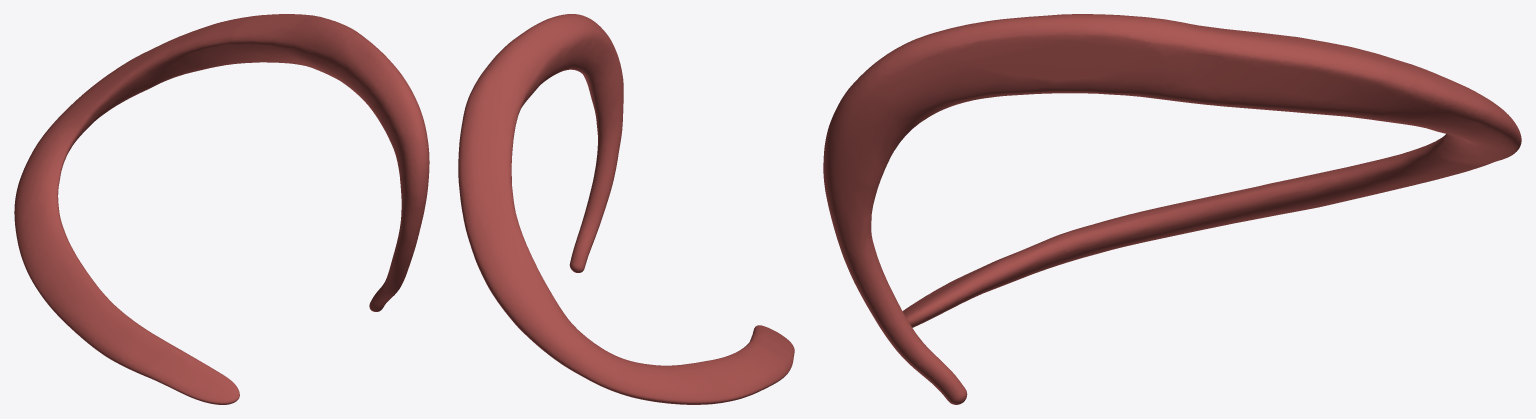
Rendered from FMA72924.glb.
3 views of the same model, side by side, from view 1: azimuth 30°, elevation 25°; view 2: azimuth 150°, elevation 25°; view 3: azimuth 270°, elevation 25° (orthographic). The views are drawn at different scales.
Visible parts, largest first — view 1: FMA72924; view 2: FMA72924; view 3: FMA72924.
Boxes of the visible parts, x1,y1,x2,y2 form: FMA72924: (14,14,429,404); FMA72924: (458,14,794,404); FMA72924: (823,14,1521,404).
Bounding box in the file's own units: 0.0297 × 0.0303 × 0.042.
